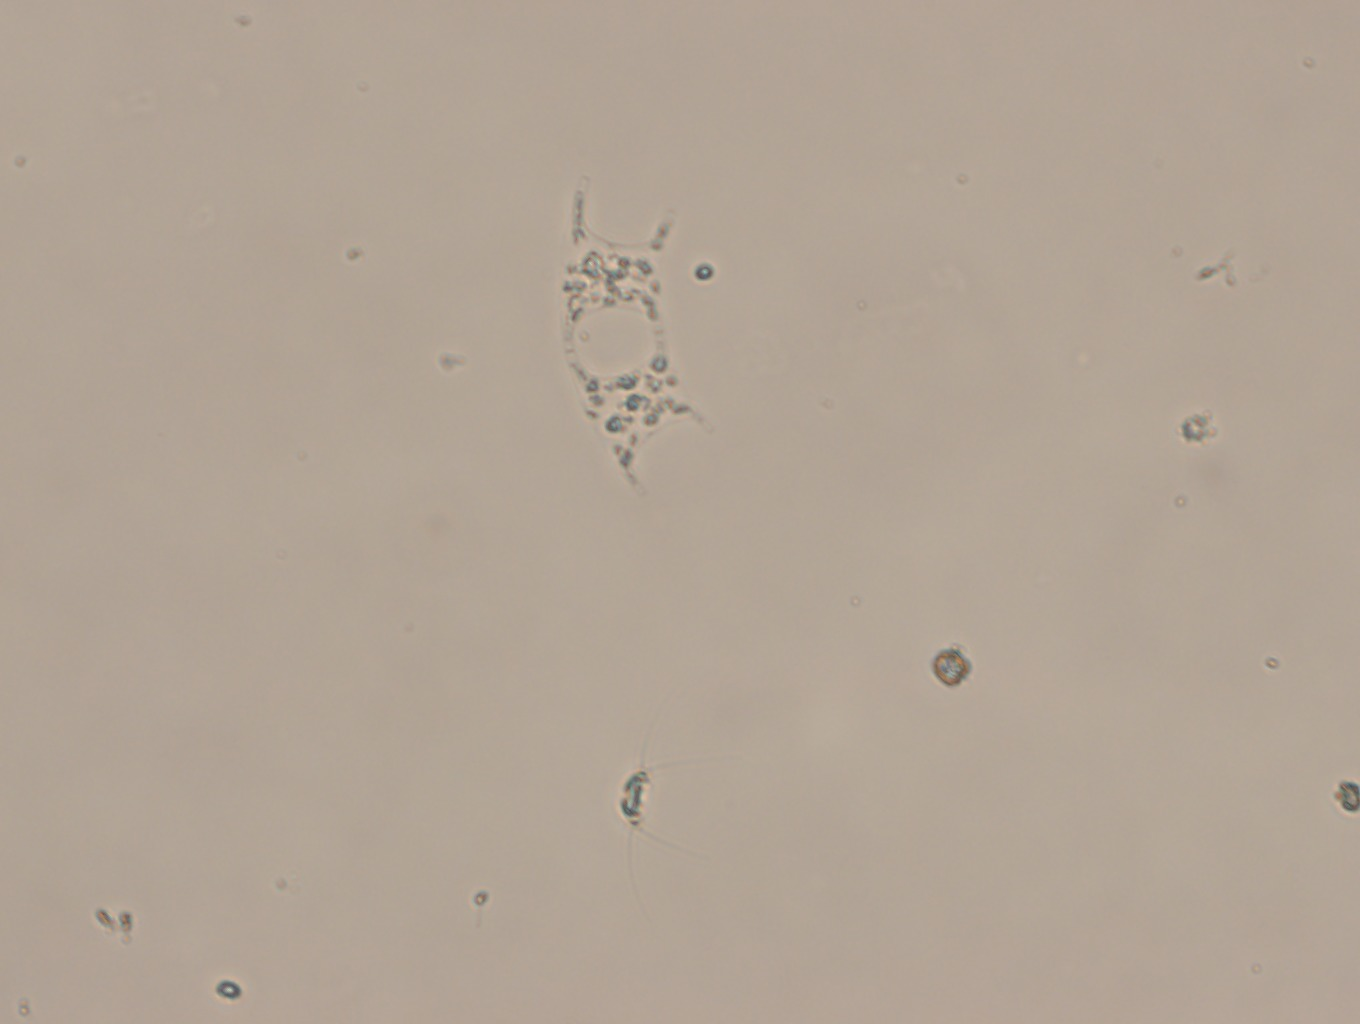eucampia: (548, 173, 710, 500)
